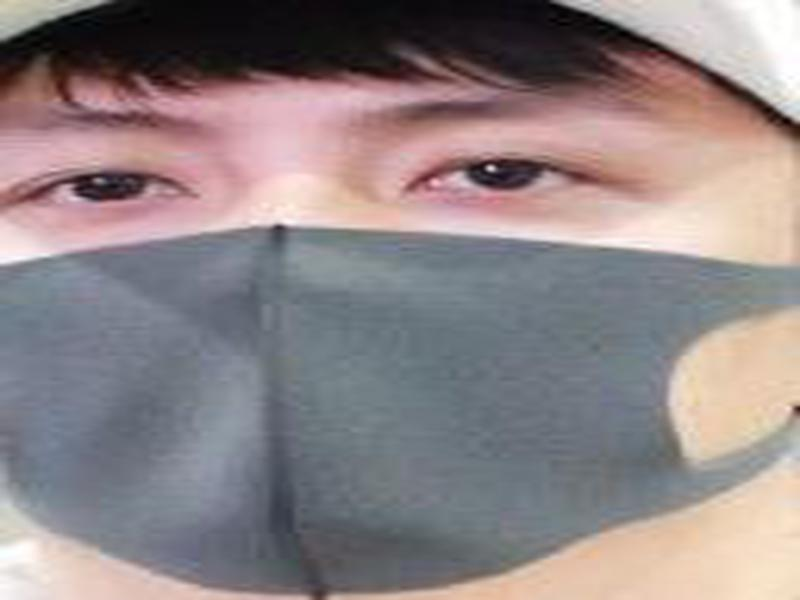with_mask: (1, 1, 795, 598)
